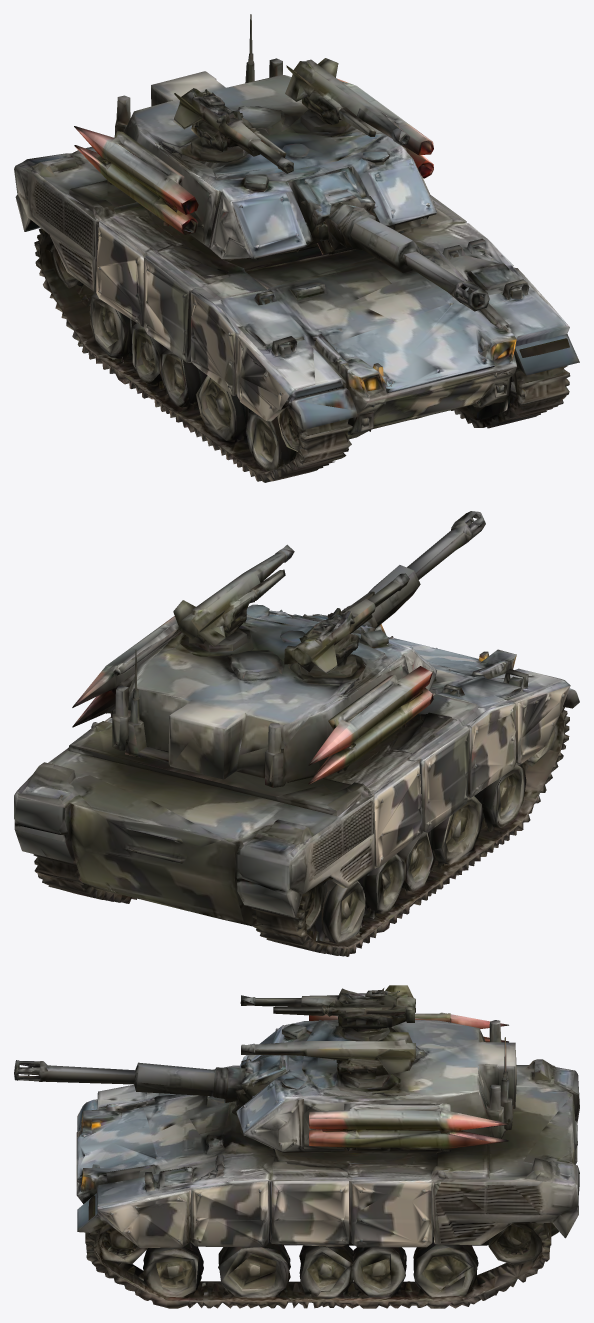
Rendered from tank.glb.
3 renders of one model, top to bottom at view 1: azimuth 30°, elevation 25°; view 2: azimuth 150°, elevation 25°; view 3: azimuth 270°, elevation 25°, orthographic. The views are drawn at different scales.
Bounding box in the file's own units: 0.5446 × 0.5069 × 1.08.
1 material, 1 textured.
